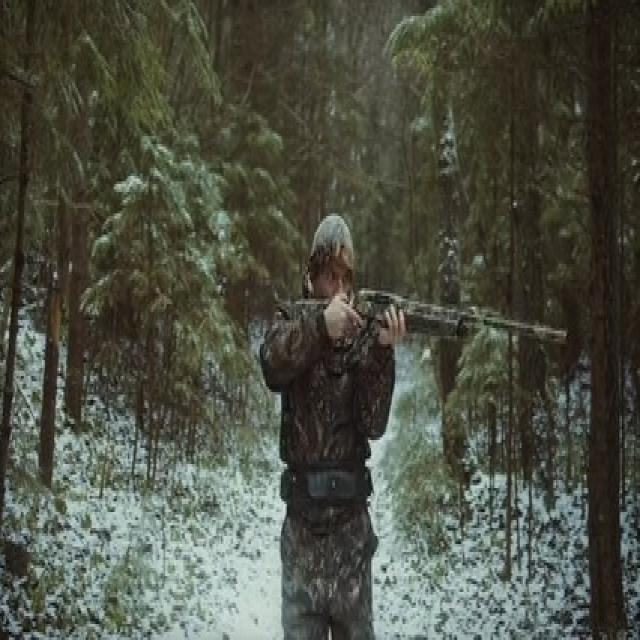Gun_Holder: (334, 281, 565, 380)
Person: (262, 202, 399, 640)
